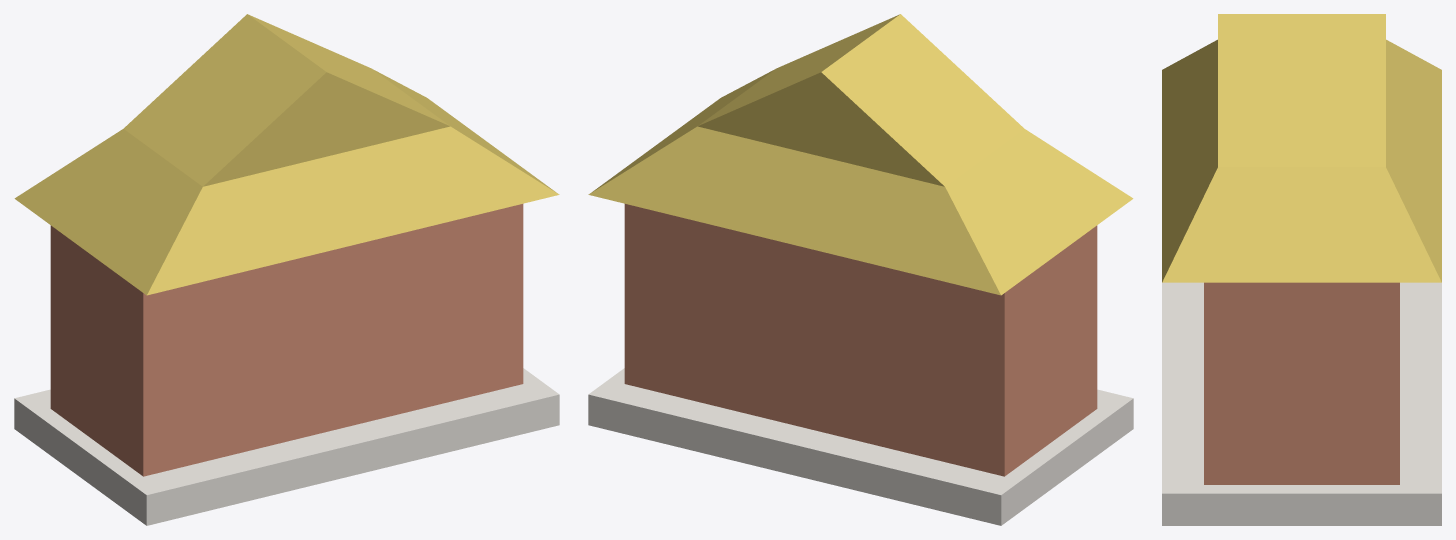
File: 神武门.glb
3 views of the same model, side by side, from view 1: azimuth 30°, elevation 25°; view 2: azimuth 150°, elevation 25°; view 3: azimuth 270°, elevation 25° (orthographic). The views are drawn at different scales.
Visible parts, largest first — view 1: body, roof, platform; view 2: body, roof, platform; view 3: roof, body, platform.
Part boxes in pixels (box(x1,y1,x2,y2)): body: box(50, 204, 523, 476); roof: box(14, 14, 559, 295); platform: box(14, 368, 559, 525); body: box(624, 204, 1097, 476); roof: box(588, 14, 1133, 295); platform: box(588, 368, 1133, 525); roof: box(1162, 14, 1441, 282); body: box(1204, 282, 1399, 484); platform: box(1162, 282, 1441, 525).
Bounding box in the file's own units: 4.5 × 4 × 2.5.
